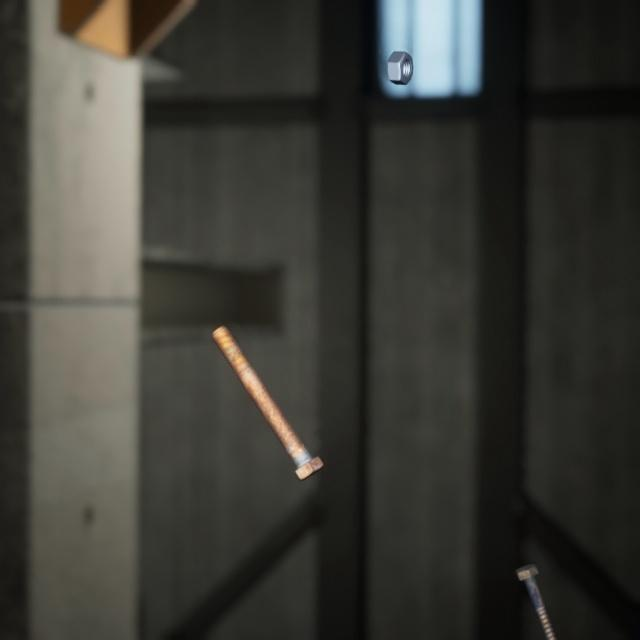bolt: (207, 301, 328, 465), (510, 536, 566, 640)
nut: (382, 37, 417, 80)
